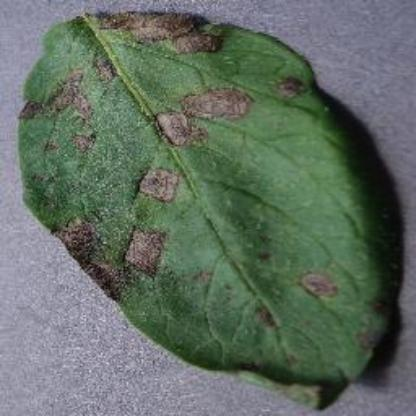Early-Blight: (19, 8, 391, 408)
